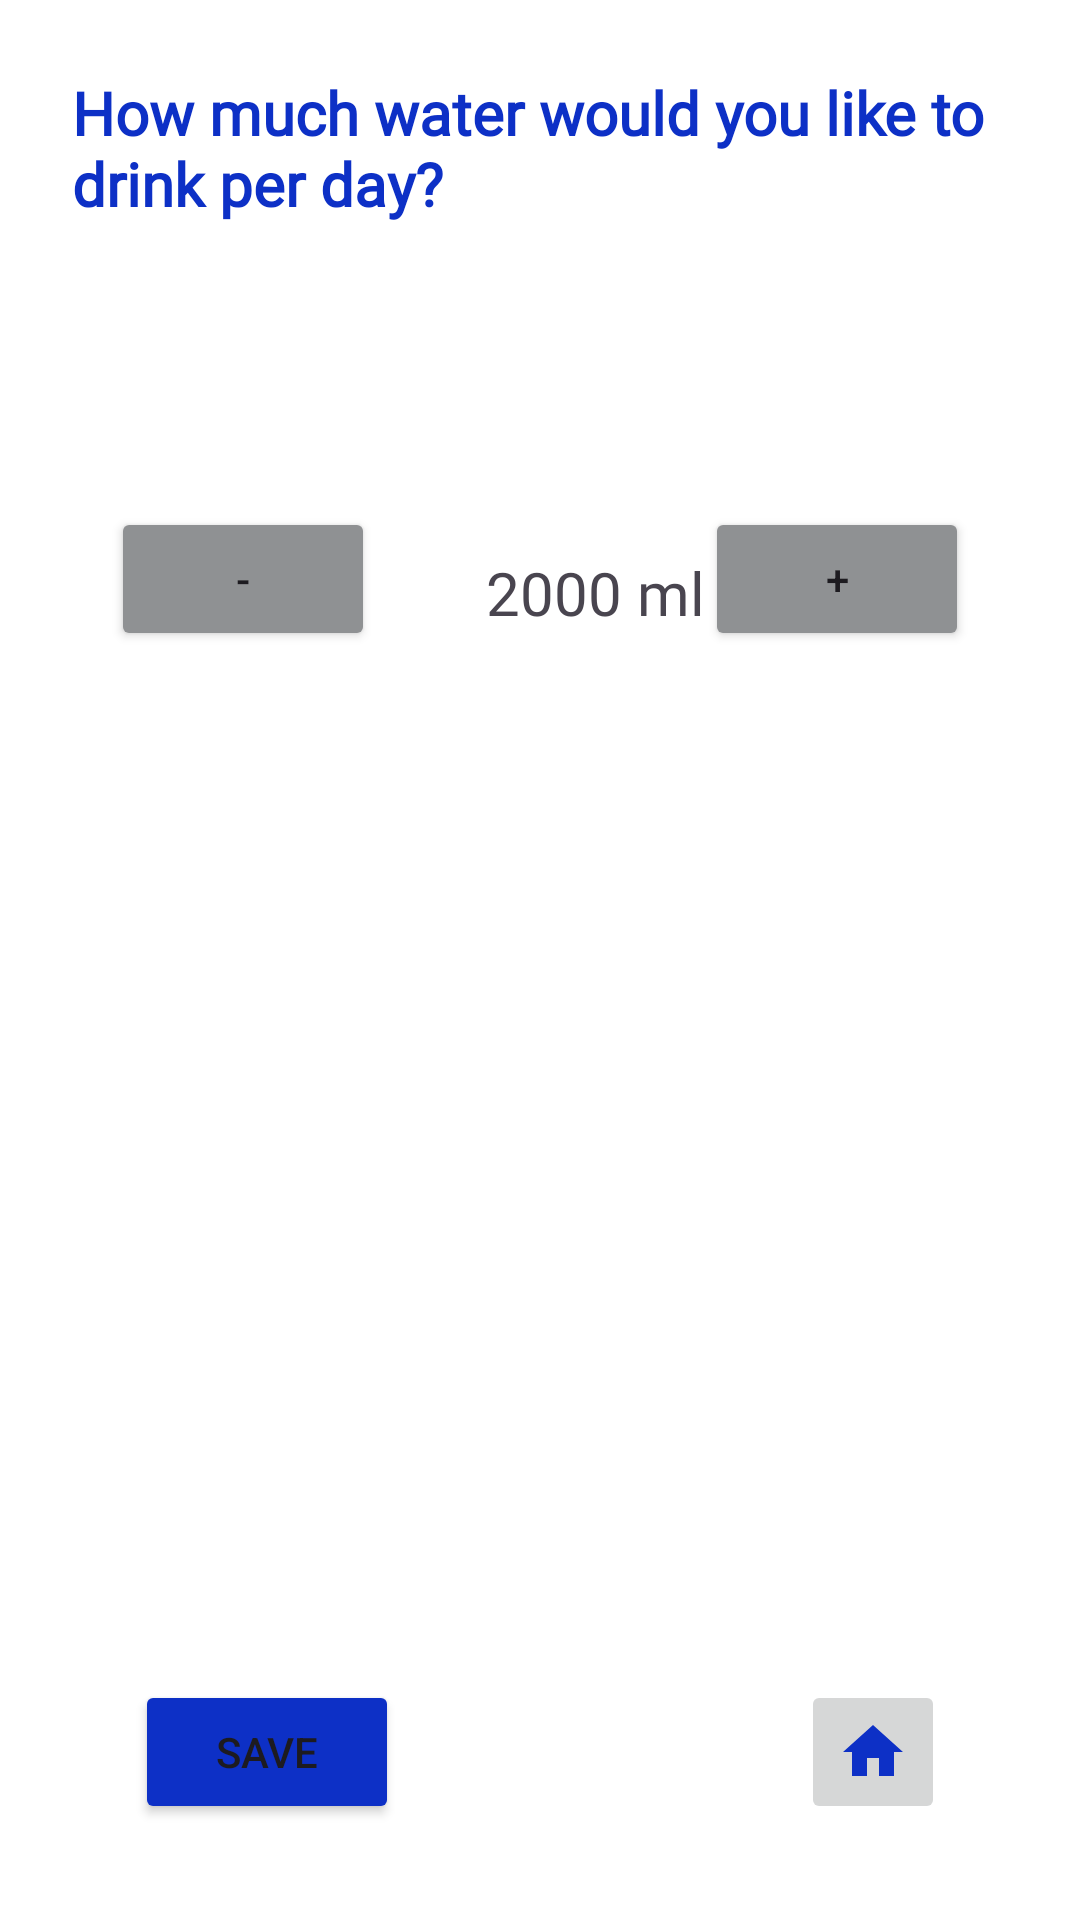

Screen size 1080*1920. Icon name, then its box in pixels as region(x1, y1, x2, y2):
home: region(813, 1698, 933, 1806)
